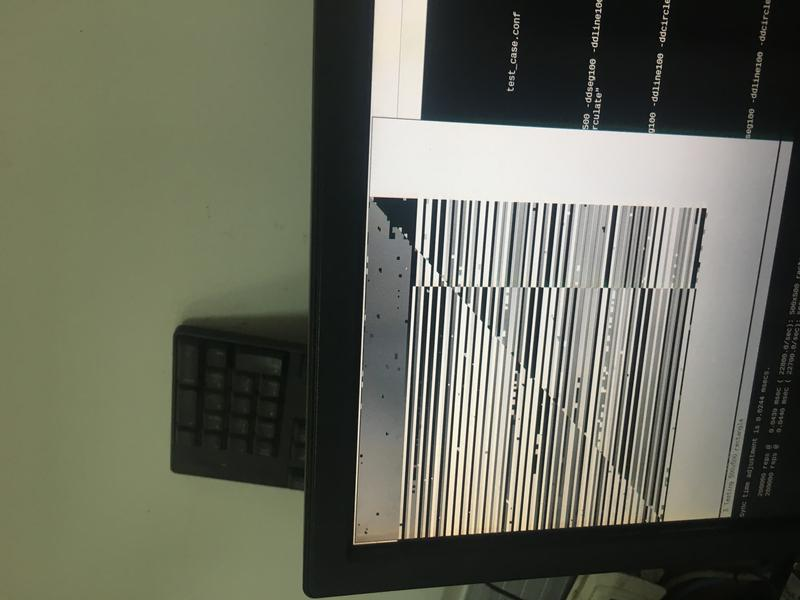xrandr_pass: (330, 98, 794, 543)
